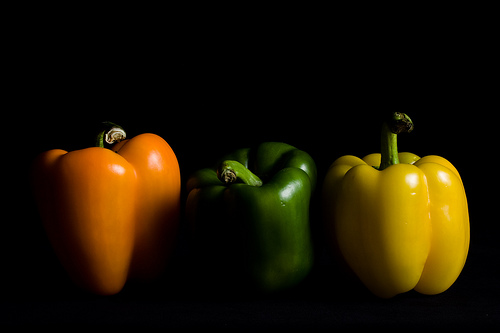capsicum: (324, 112, 472, 299), (42, 125, 181, 292), (187, 138, 316, 300)
